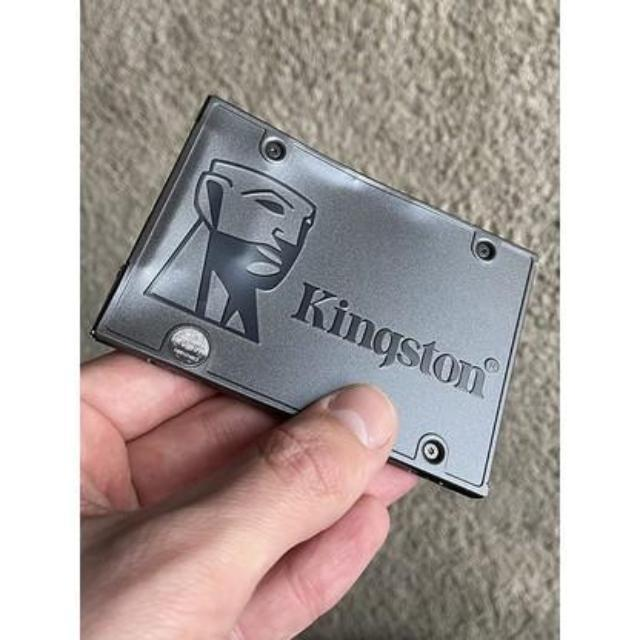DISK: (89, 90, 540, 508)
